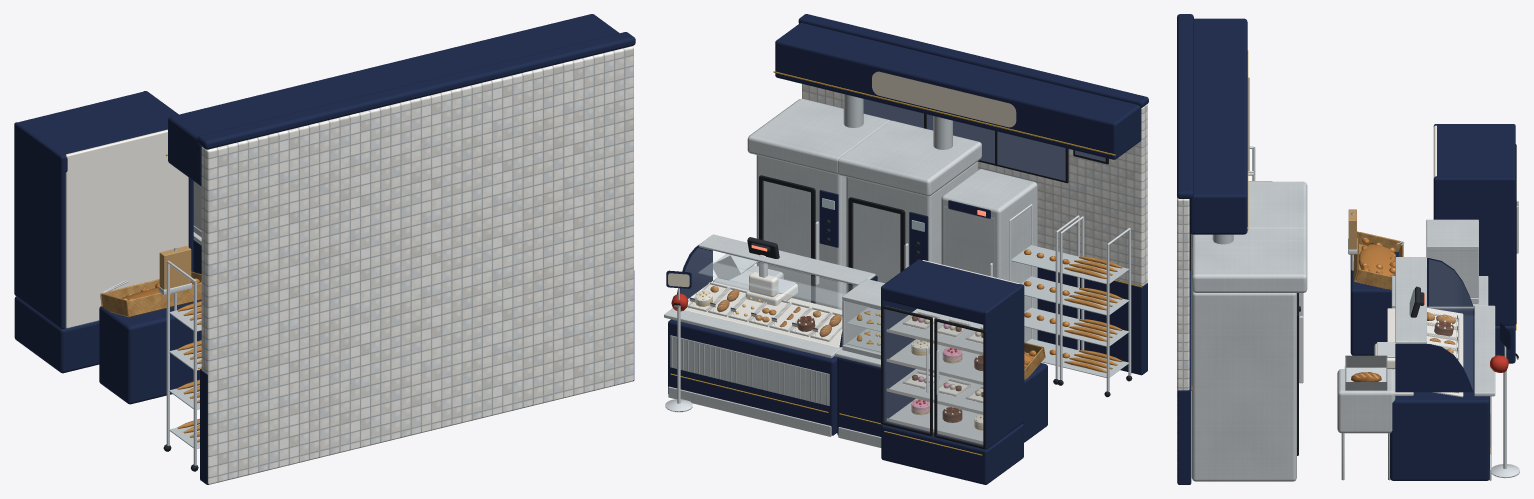
File: sector-padaria_T3.fbx
3 views of the same model, side by side, from view 1: azimuth 30°, elevation 25°; view 2: azimuth 150°, elevation 25°; view 3: azimuth 270°, elevation 25° (orthographic). The views are drawn at different scales.
Parts seen in each view (by area): view 1: Body; view 2: Body; view 3: Body.
Part boxes in pixels (x1,y1,x2,y2): Body: [14, 14, 635, 484]; Body: [664, 14, 1148, 484]; Body: [1177, 14, 1519, 484].
Bounding box in the file's own units: 4.04 × 3.08 × 3.26.
